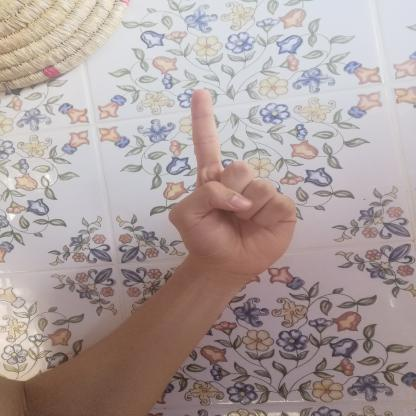BAA: (150, 81, 312, 287)
